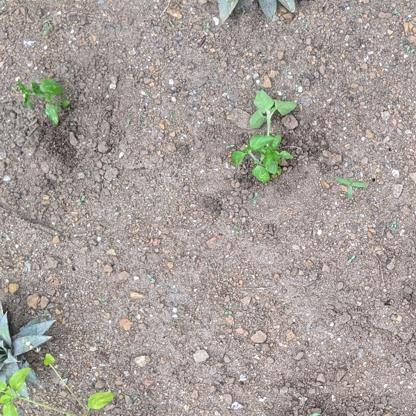pineapple: (1, 297, 57, 395)
weed: (231, 88, 299, 184), (12, 76, 76, 125)
